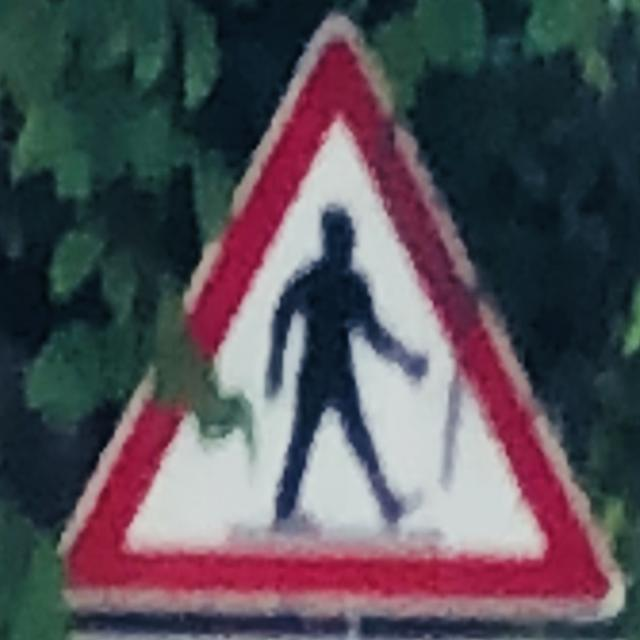pedestrian crossing: (59, 19, 598, 596)
